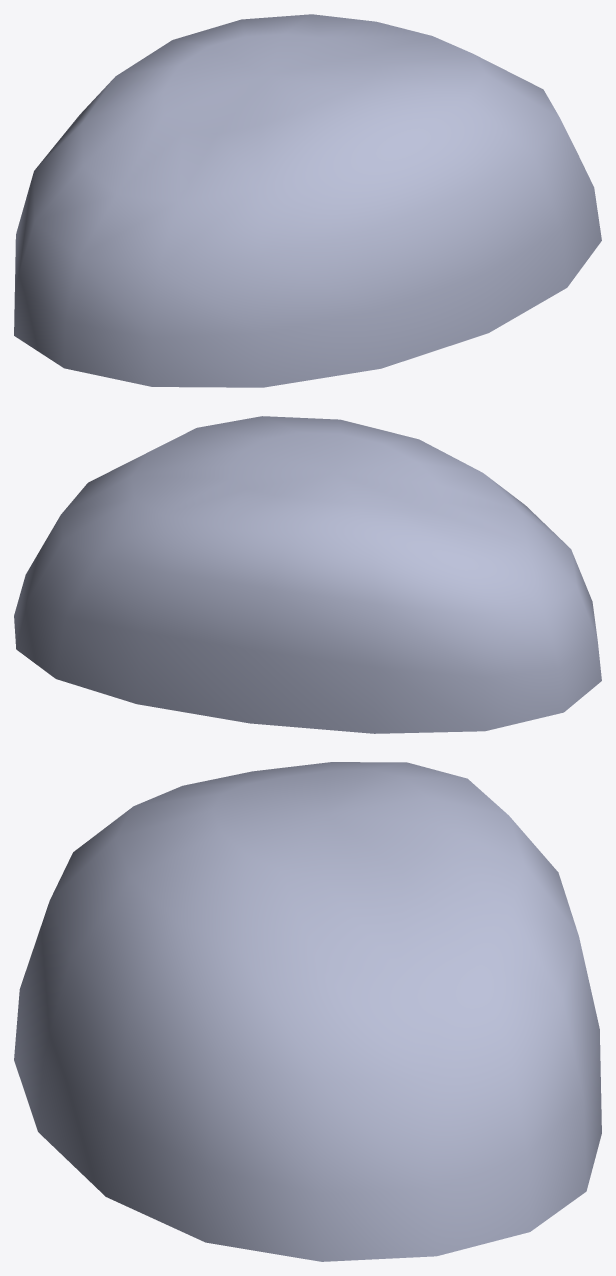
Rendered from Rock_05.fbx.
3 views of the same model, one above another, from view 1: azimuth 30°, elevation 25°; view 2: azimuth 150°, elevation 25°; view 3: azimuth 270°, elevation 25° (orthographic). The views are drawn at different scales.
Visible parts, largest first — view 1: Rock_05; view 2: Rock_05; view 3: Rock_05.
Part boxes in pixels (x1,y1,x2,y2): Rock_05: [14, 14, 601, 387]; Rock_05: [14, 416, 601, 733]; Rock_05: [14, 762, 601, 1261].
Bounding box in the file's own units: 93.8 × 32.07 × 66.51.
